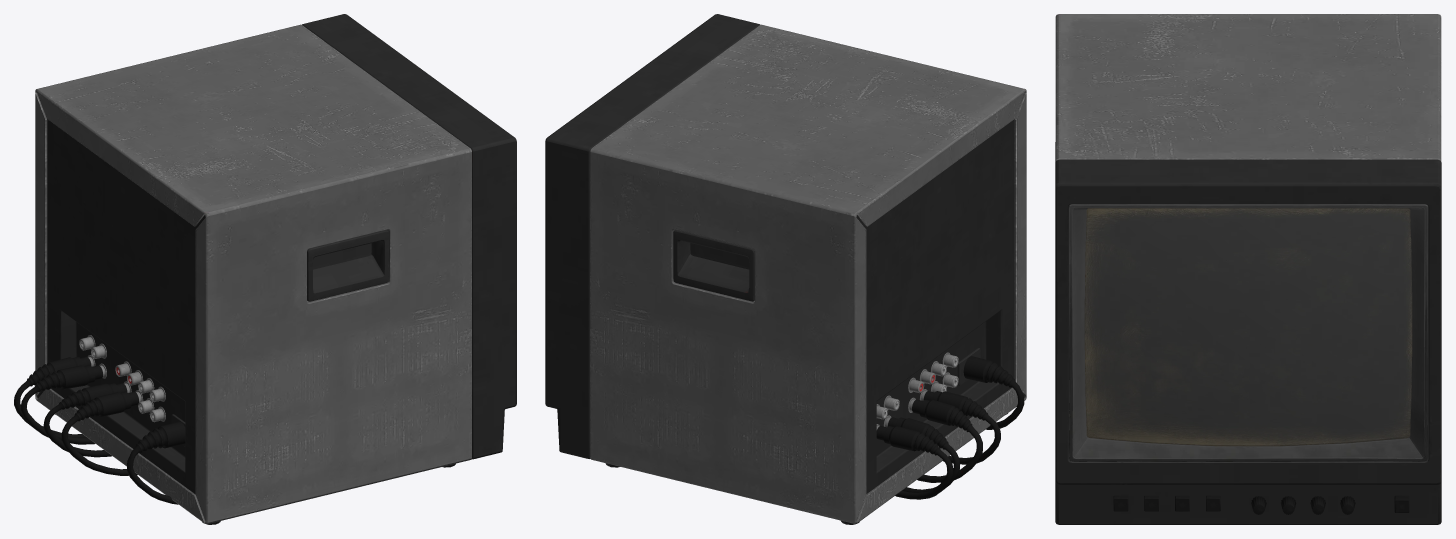
File: tv-com.glb
3 views of the same model, side by side, from view 1: azimuth 30°, elevation 25°; view 2: azimuth 150°, elevation 25°; view 3: azimuth 270°, elevation 25° (orthographic). The views are drawn at different scales.
Visible parts, largest first — view 1: TV_CCTV_02_MI_TV_CTTV_0; view 2: TV_CCTV_02_MI_TV_CTTV_0; view 3: TV_CCTV_02_MI_TV_CTTV_0, TV_CCTV_02_MI_TV_CTTV_Screen_0.
Boxes of the visible parts, <box> form: TV_CCTV_02_MI_TV_CTTV_0: <box>14,14,516,524</box>; TV_CCTV_02_MI_TV_CTTV_0: <box>545,14,1026,524</box>; TV_CCTV_02_MI_TV_CTTV_0: <box>1055,14,1441,524</box>; TV_CCTV_02_MI_TV_CTTV_Screen_0: <box>1084,208,1412,446</box>.
Bounding box in the file's own units: 0.4849 × 0.4023 × 0.3904.
2 materials, 2 textured.
